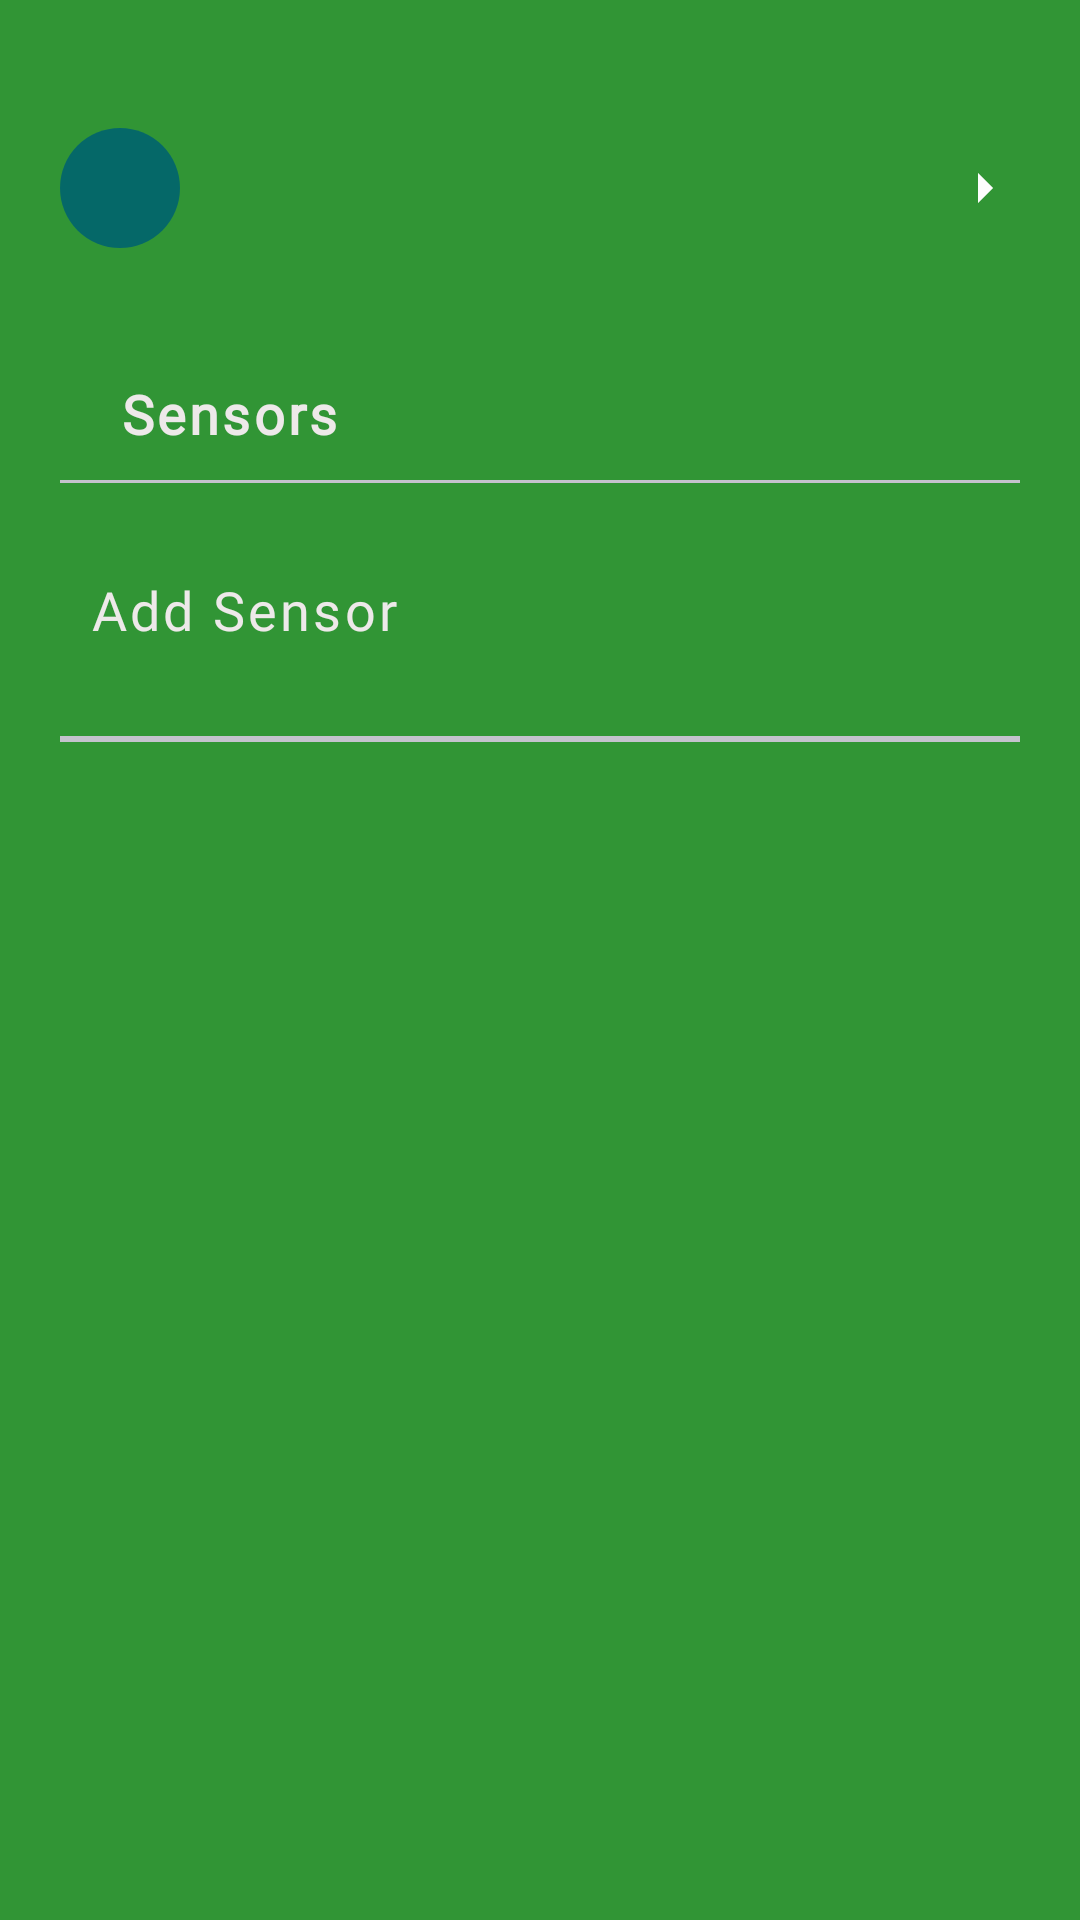

Locate icon controls on the screen. Image size 1080x1920, boxes as (x1, y1, x2, y2).
arrow right: (978, 173, 993, 203)
